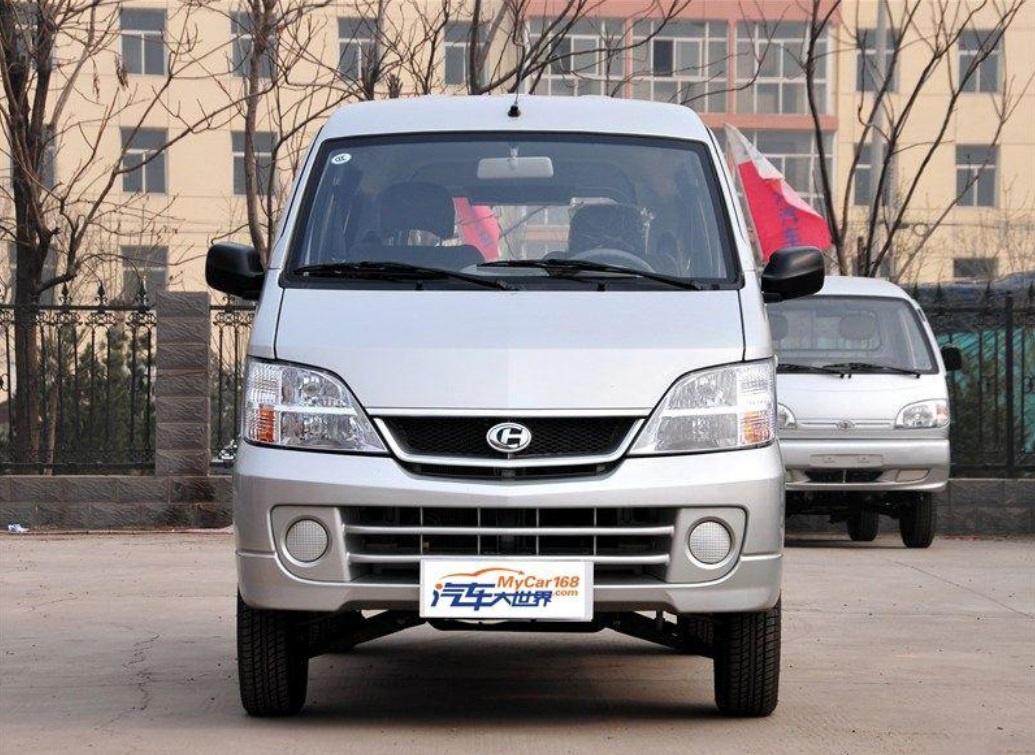minibus: (207, 101, 804, 709)
